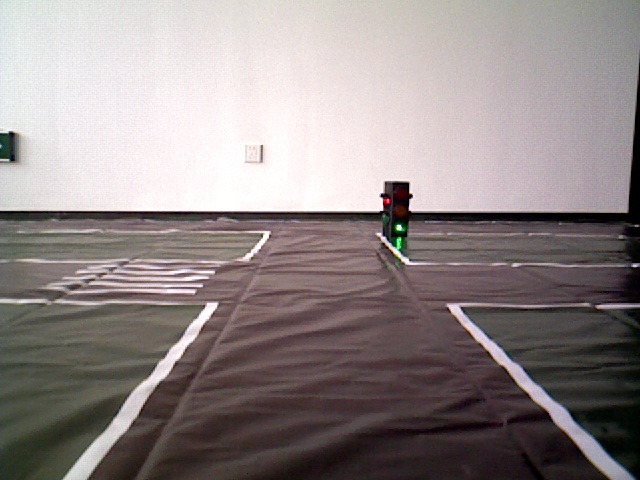green: (383, 183, 410, 235)
